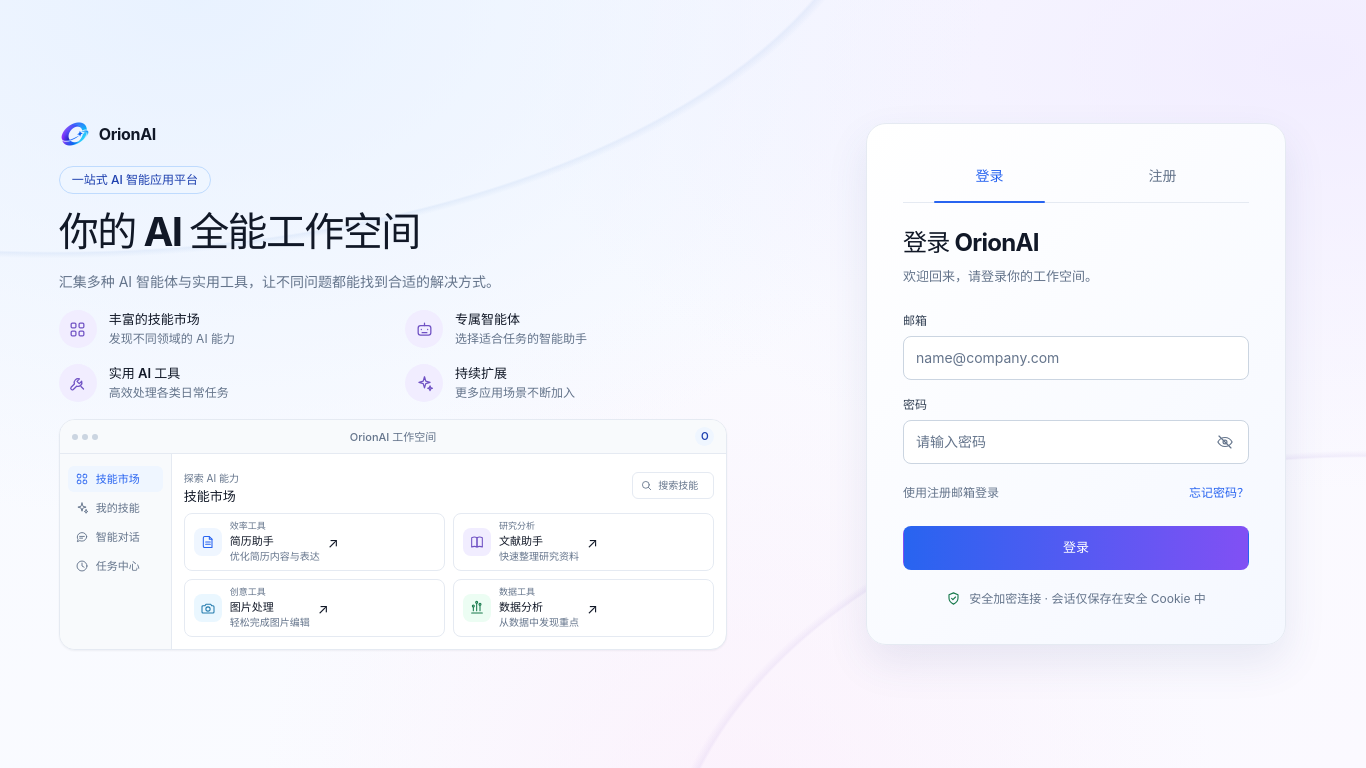
Scenario: OrionAI authentication page › restores an anonymous session and logs in with a cookie-backed request
Expected: the heading "登录 OrionAI" is shown, [903,228,1039,257]
Type "person@example.com" into the field labelled "邮箱".
click(1076, 358); type("person@example.com")  # box [903,336,1249,380]
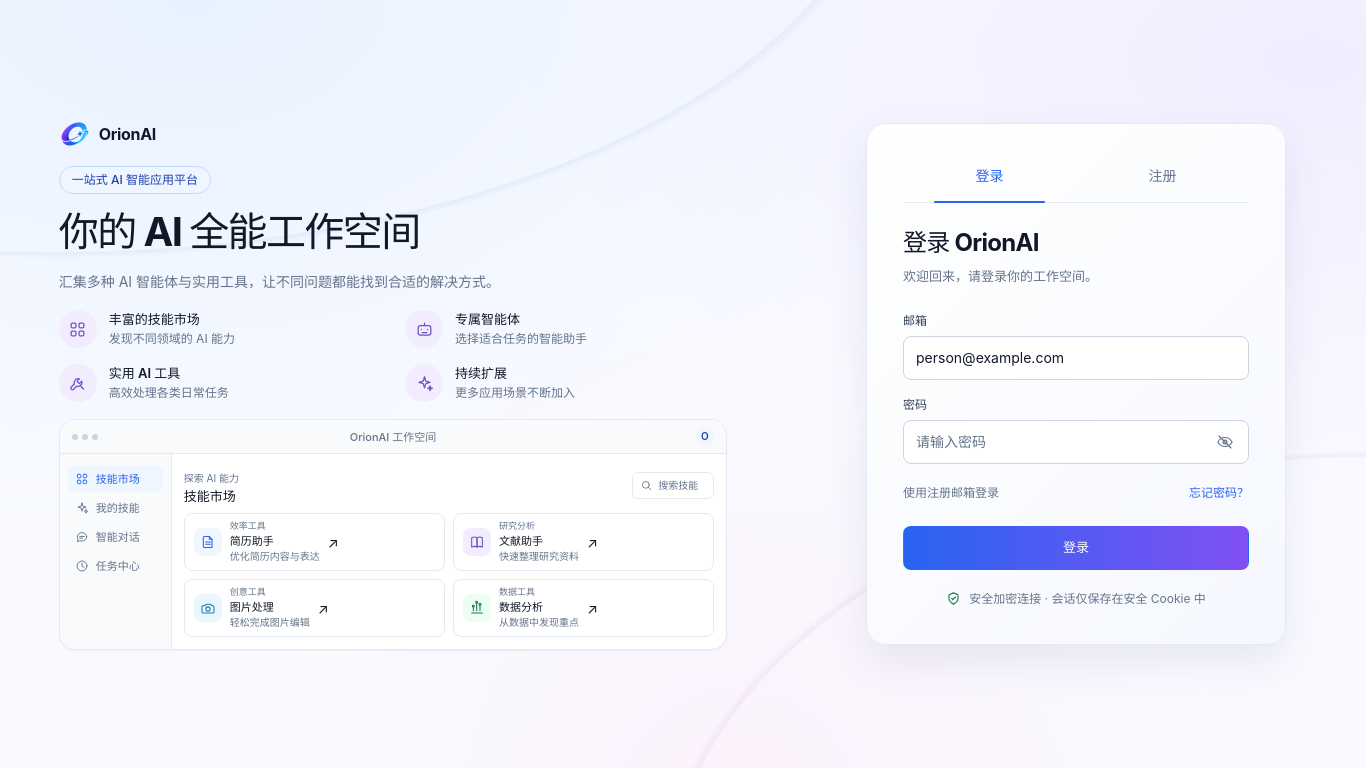
Type "correct horse battery" into the password field labelled "密码".
click(1076, 442); type("correct horse battery")  # box [903,420,1249,464]
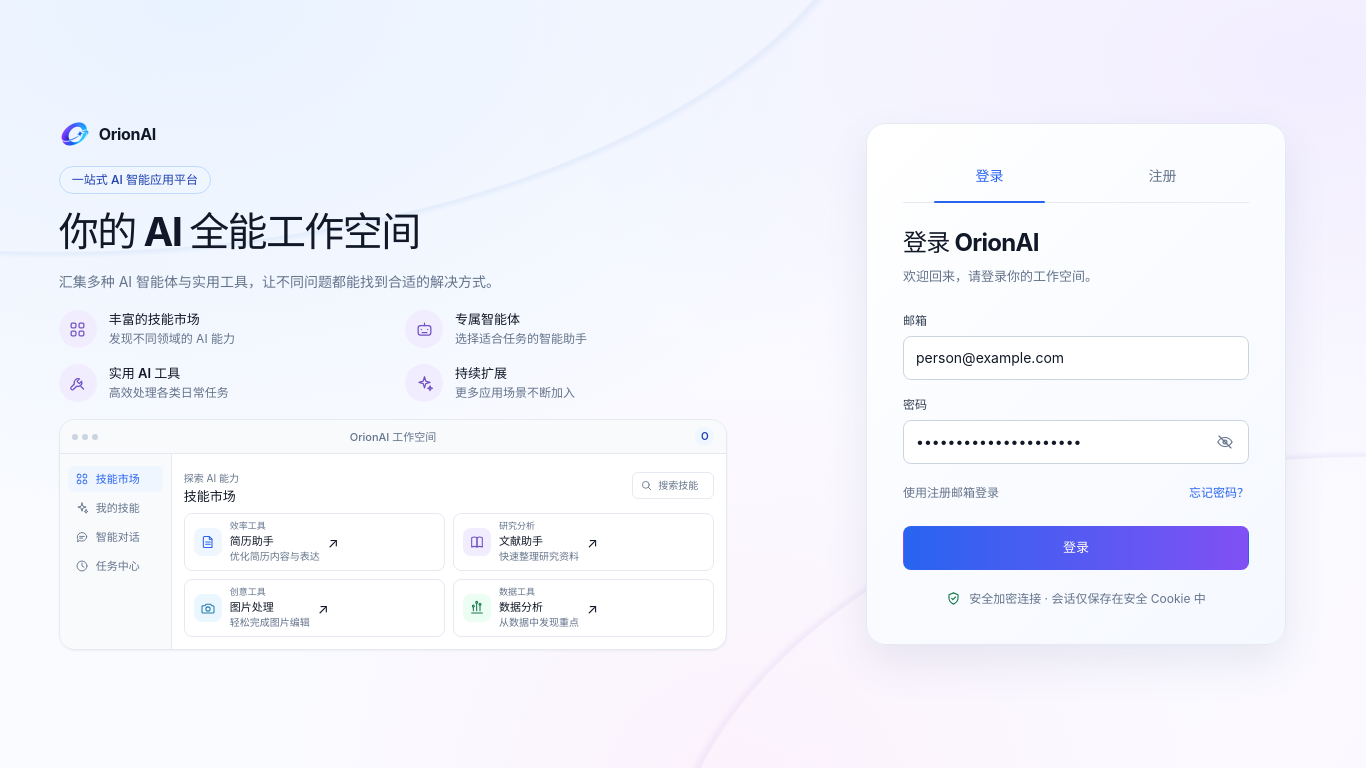
Click the button named "显示密码".
click(1225, 442)  # box [1207,424,1243,460]
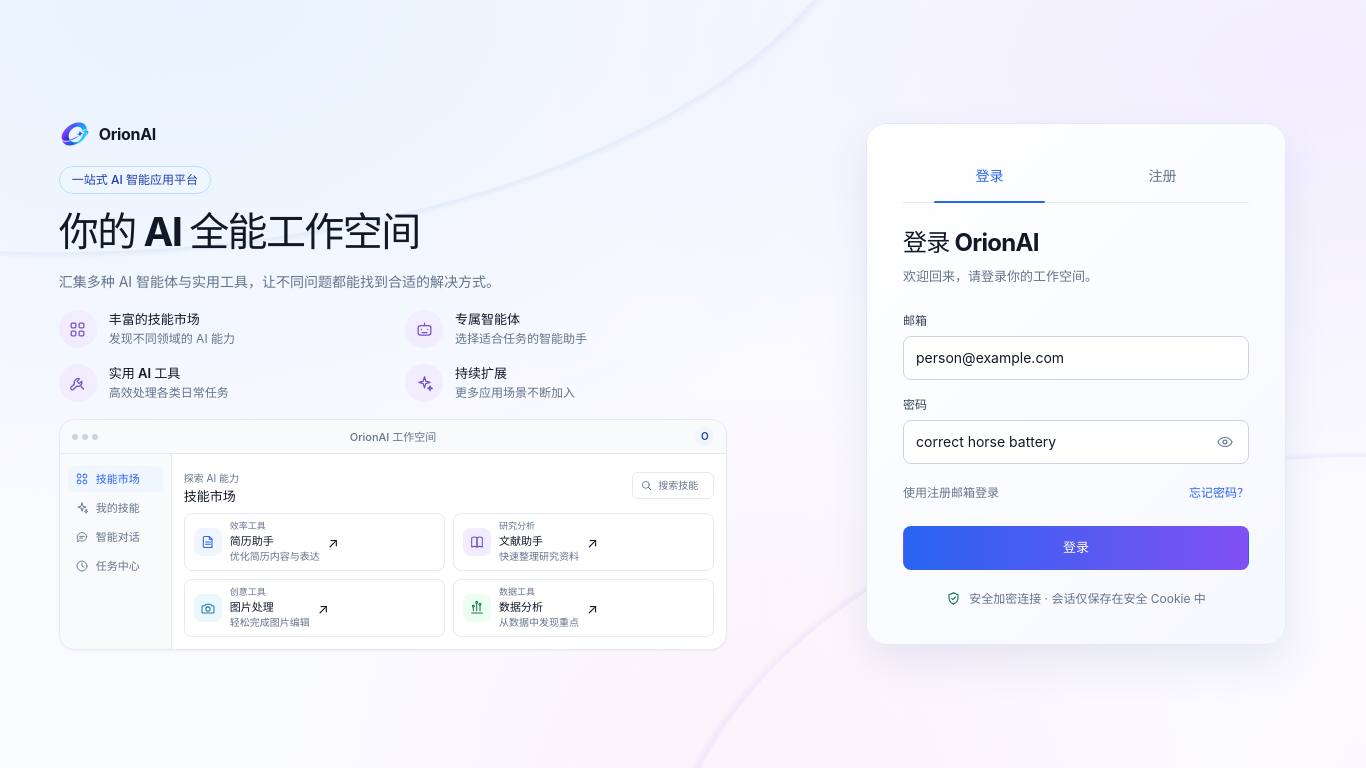
Expected: the field labelled "密码" shows its text, [903,420,1249,464]
Click the button named "隐藏密码".
click(1225, 442)  # box [1207,424,1243,460]
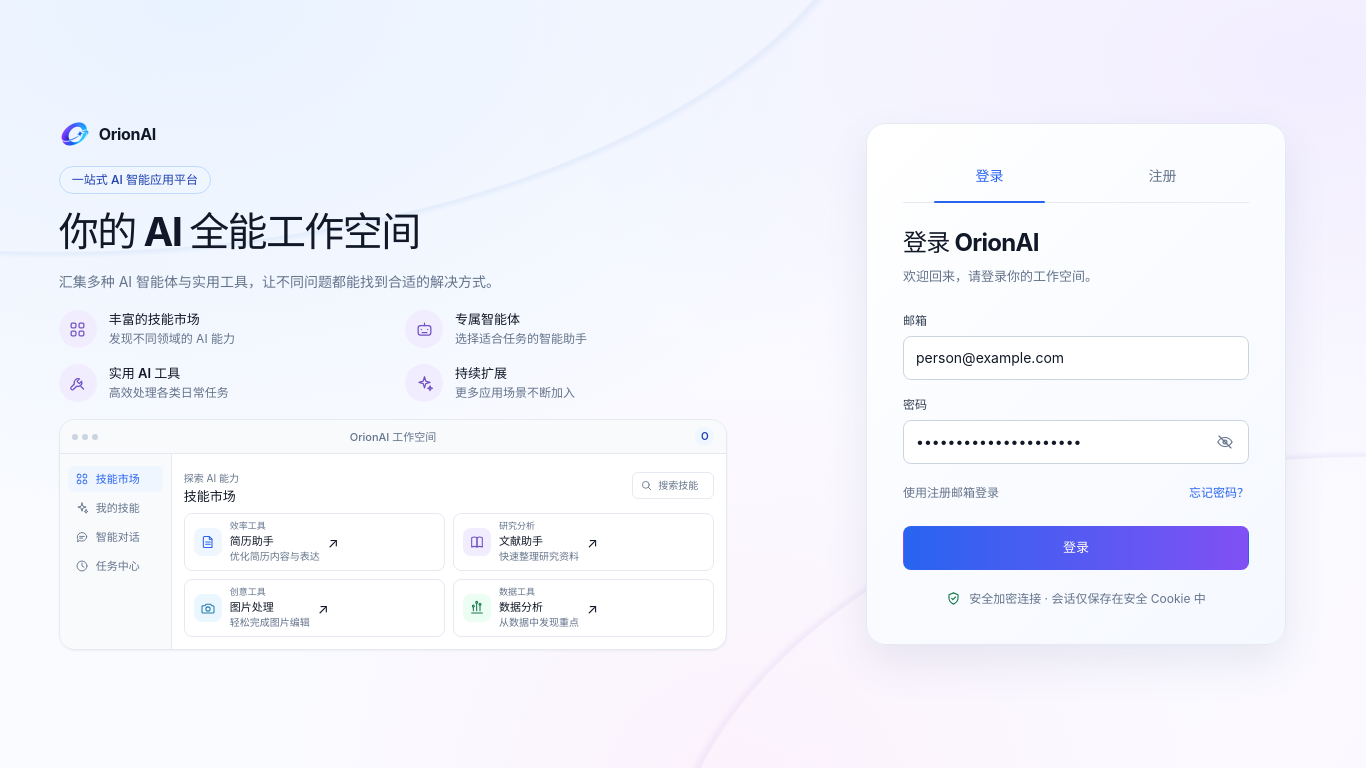
Click the button "登录".
click(1076, 548)  # box [903,526,1249,570]
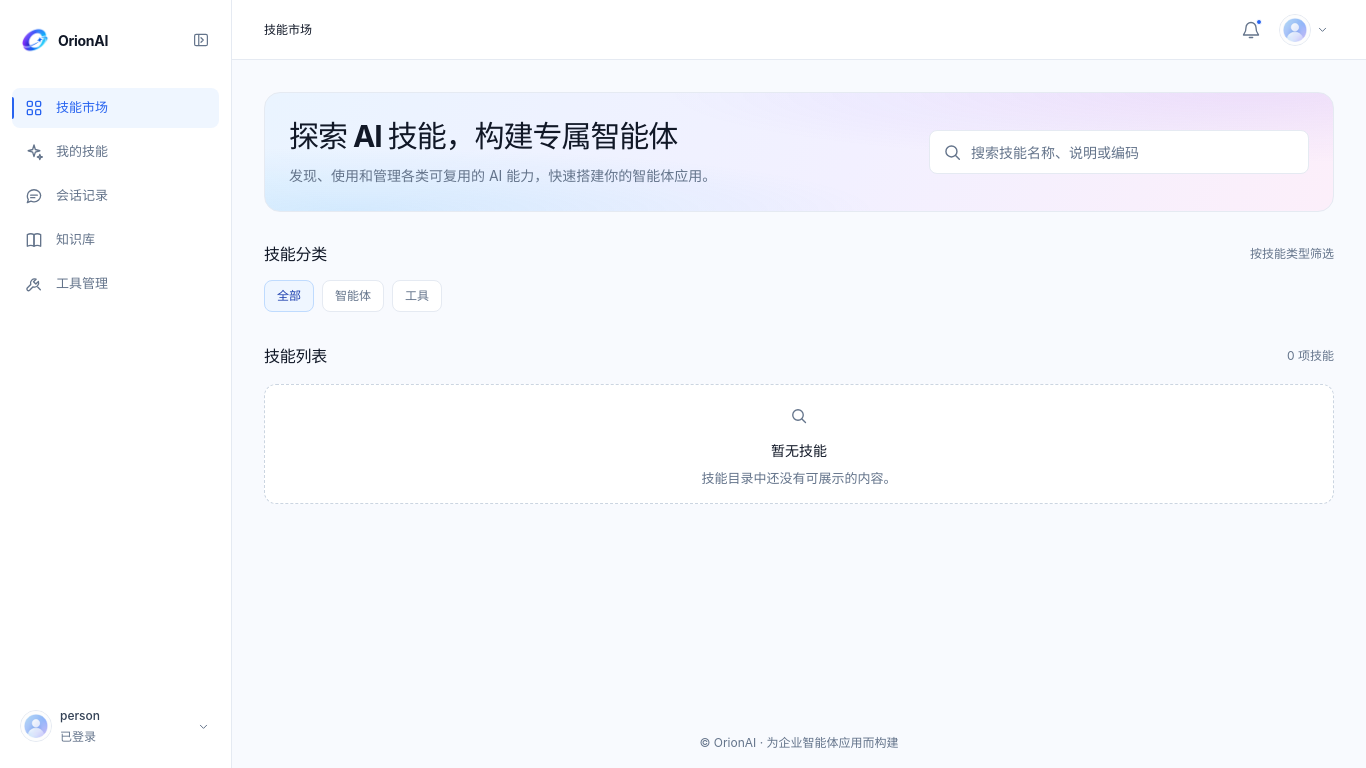
Expected: the heading "探索 AI 技能，构建专属智能体" is shown, [289,117,716,156]
